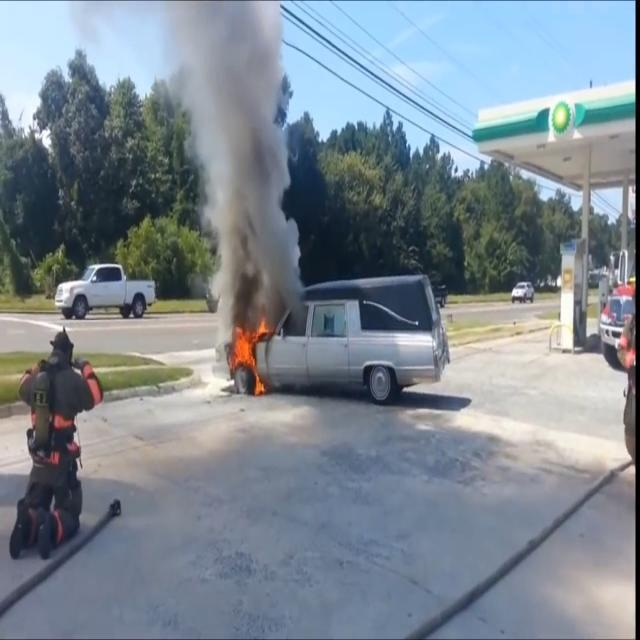fire: (226, 311, 276, 400)
